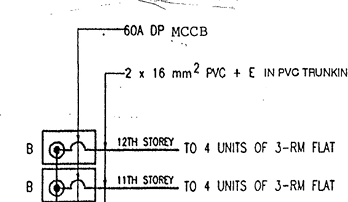Single Phase Tap-Off Unit: (37, 126, 98, 167), (37, 164, 100, 202)
